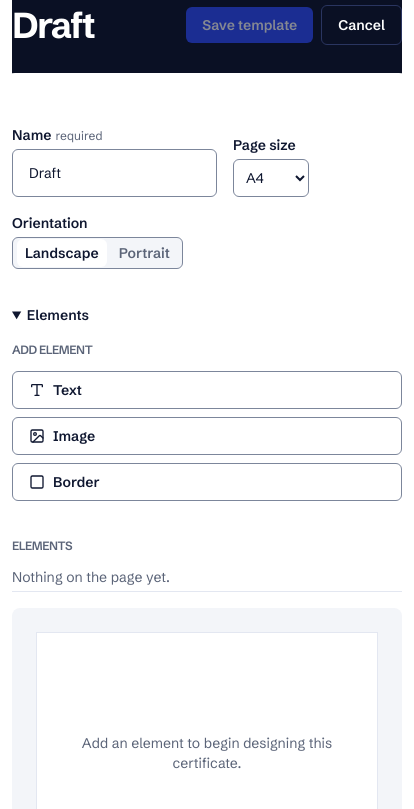
Test: ElementInspector (via TemplateEditorShell) › binds X two-way: typing in the inspector moves the canvas element, and nudging on the canvas updates the inspector
The image size is (414, 809).
Click the button "Text": point(37, 390) [12,371,402,409]
(page scrolled)
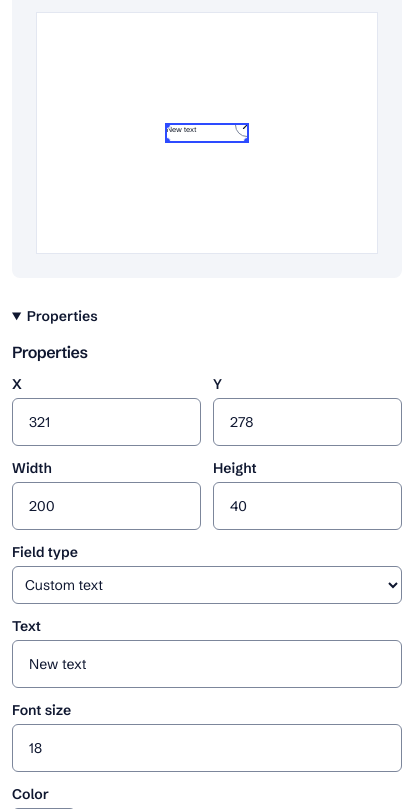
Replace the text in the number field labelled "X" with "50": point(106, 422) [12,398,201,446]
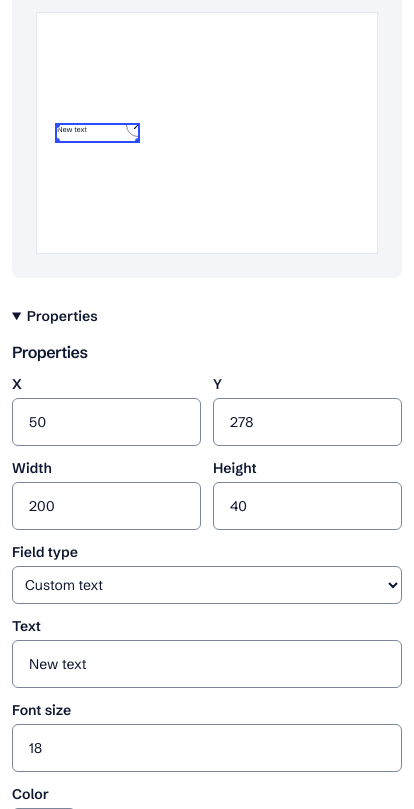
Press ArrowRight in the element named "Text element: custom text", box [57,125,138,141]
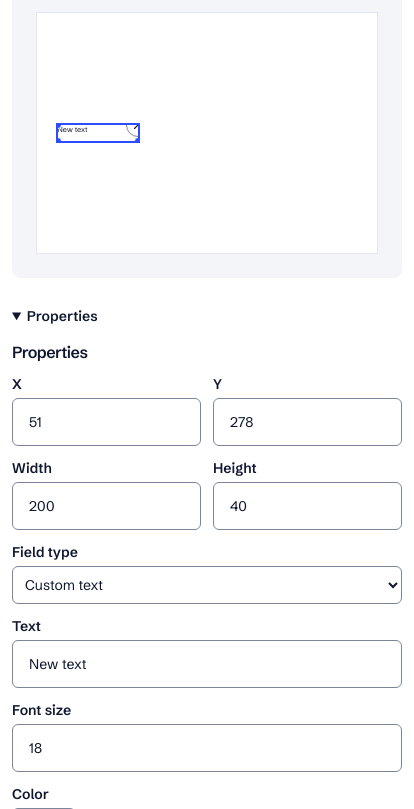
Expected: the number field labelled "X" holds "51", [12,398,201,446]
Press ArrowRight in the element named "Text element: custom text", box [58,125,138,141]
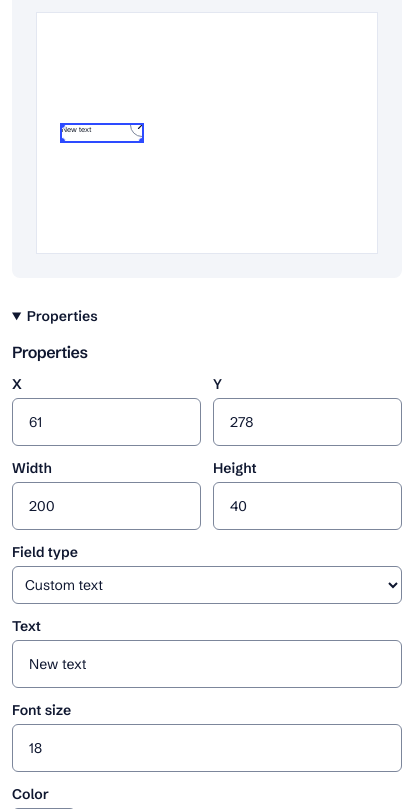
Expected: the number field labelled "X" holds "61", [12,398,201,446]
